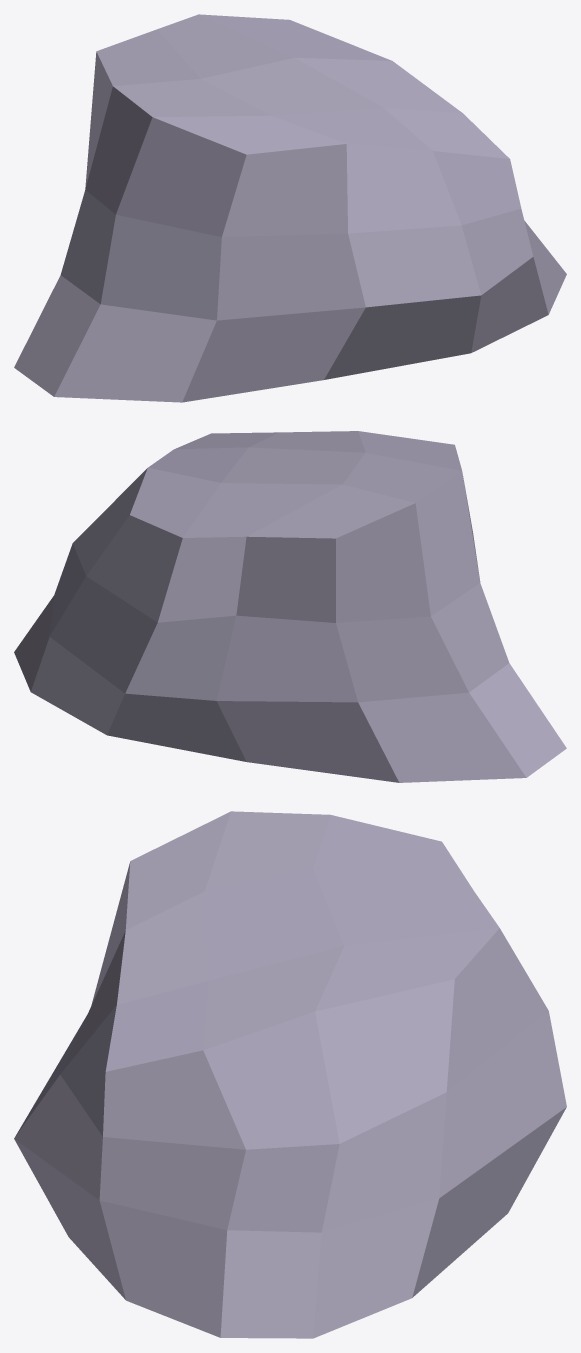
The model's file is Rock_12Color.fbx.
The picture shows the model from 3 angles, top to bottom: view 1: azimuth 30°, elevation 25°; view 2: azimuth 150°, elevation 25°; view 3: azimuth 270°, elevation 25°; orthographic projection. The views are drawn at different scales.
Visible parts, largest first — view 1: Rock_12; view 2: Rock_12; view 3: Rock_12.
Part boxes in pixels (bbox=[...]): Rock_12: bbox=[14, 14, 566, 402]; Rock_12: bbox=[14, 431, 566, 782]; Rock_12: bbox=[14, 811, 566, 1338].
Size of the model in its own units: 491 by 233 by 396.
